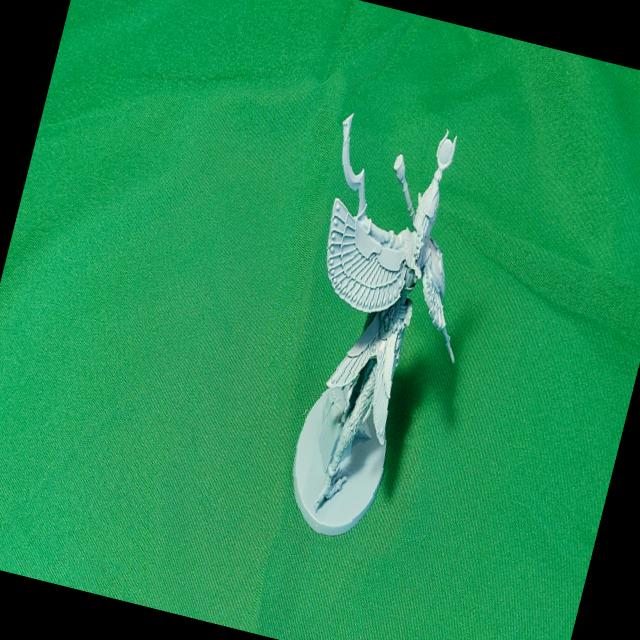isis: (240, 72, 524, 568)
